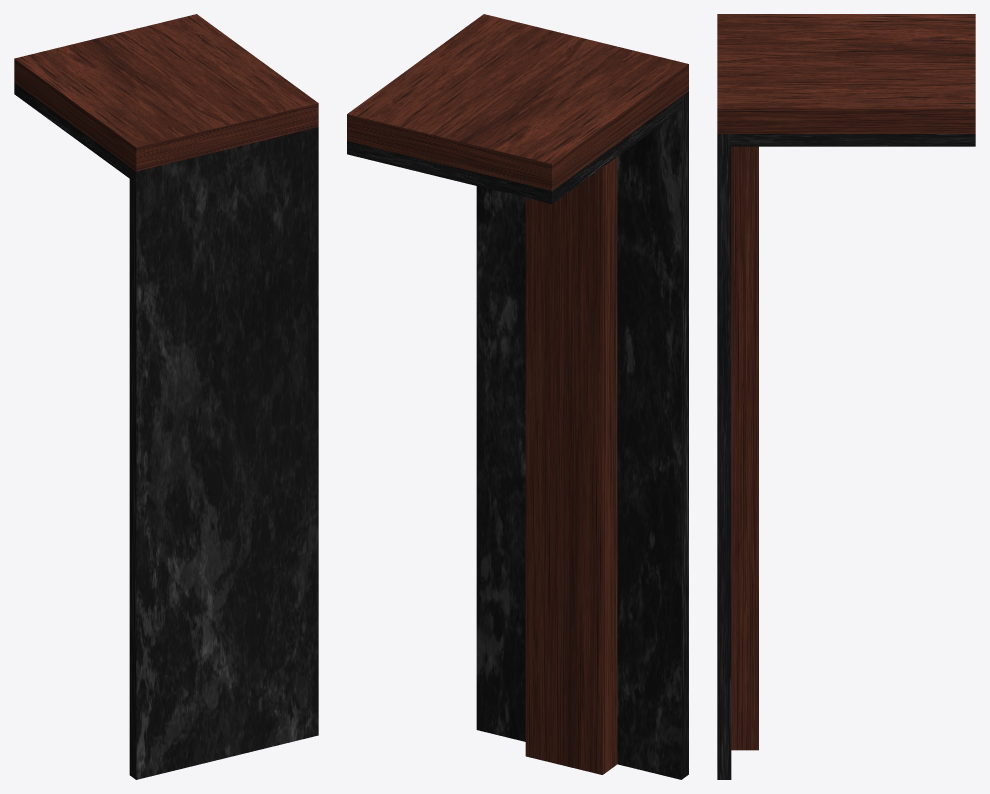
File: desk.dae
3 views of the same model, side by side, from view 1: azimuth 30°, elevation 25°; view 2: azimuth 150°, elevation 25°; view 3: azimuth 270°, elevation 25° (orthographic). The views are drawn at different scales.
Parts seen in each view (by area): view 1: Cube.005; view 2: Cube.005; view 3: Cube.005.
Part boxes in pixels (x1,y1,x2,y2): Cube.005: (14,14,318,779); Cube.005: (347,14,688,779); Cube.005: (717,14,975,779).
Bounding box in the file's own units: 0.8 × 0.925 × 2.65.
Materials: 4 (4 with a texture image).
